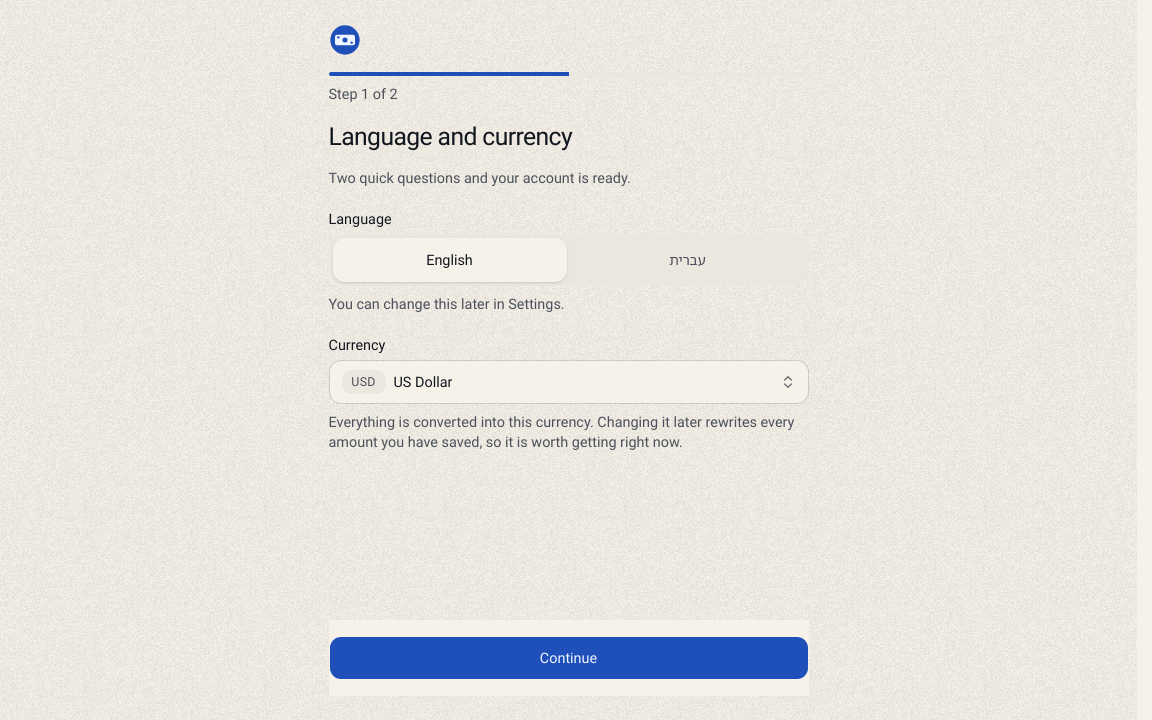
Test case: FirstRun › goes straight from language to the balance: nobody is asked for a name
What coordinates should you click on to do the following:
click the button "Continue"
I would click on:
 (568, 658)
Its box is 328,636 -> 808,680.
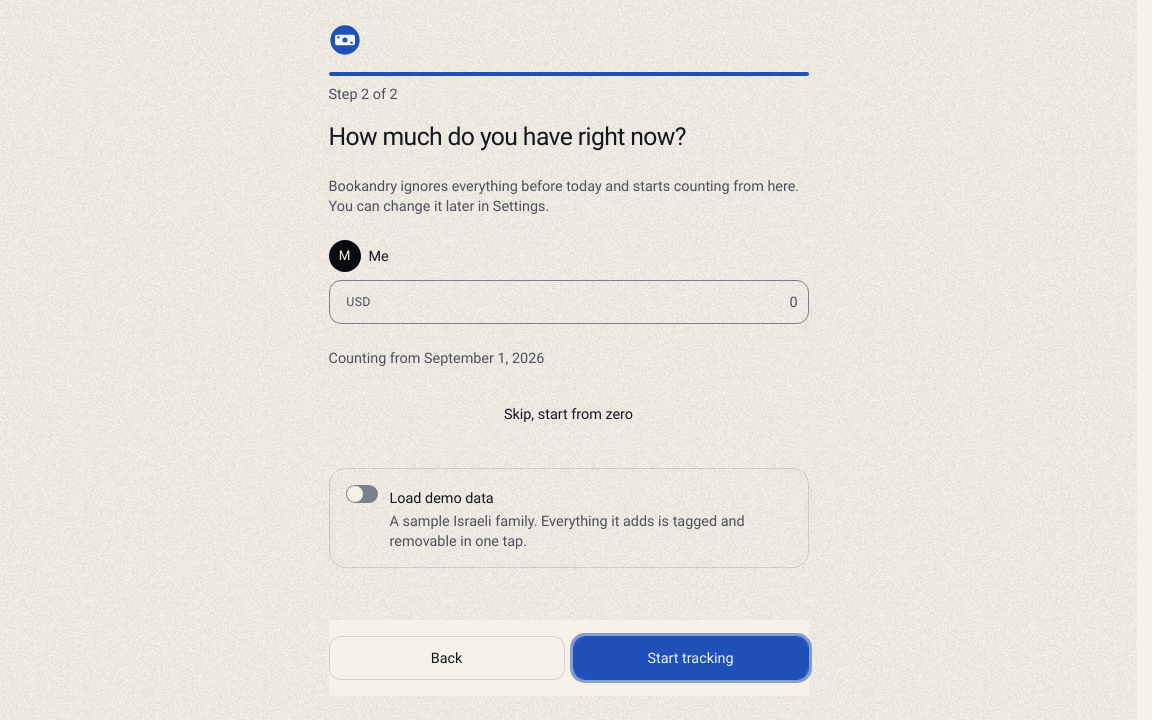
Check: the heading "How much do you have right now?" is shown, box 328,120 -> 686,152
Check: the text "Step 2 of 2" is shown, box 328,85 -> 398,103
